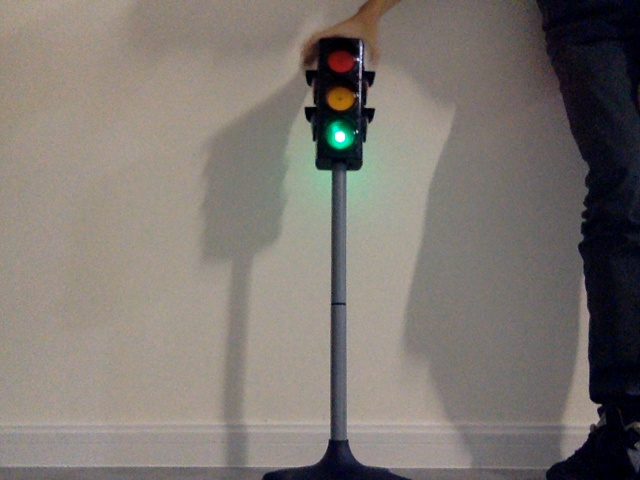green: (322, 48, 355, 156)
